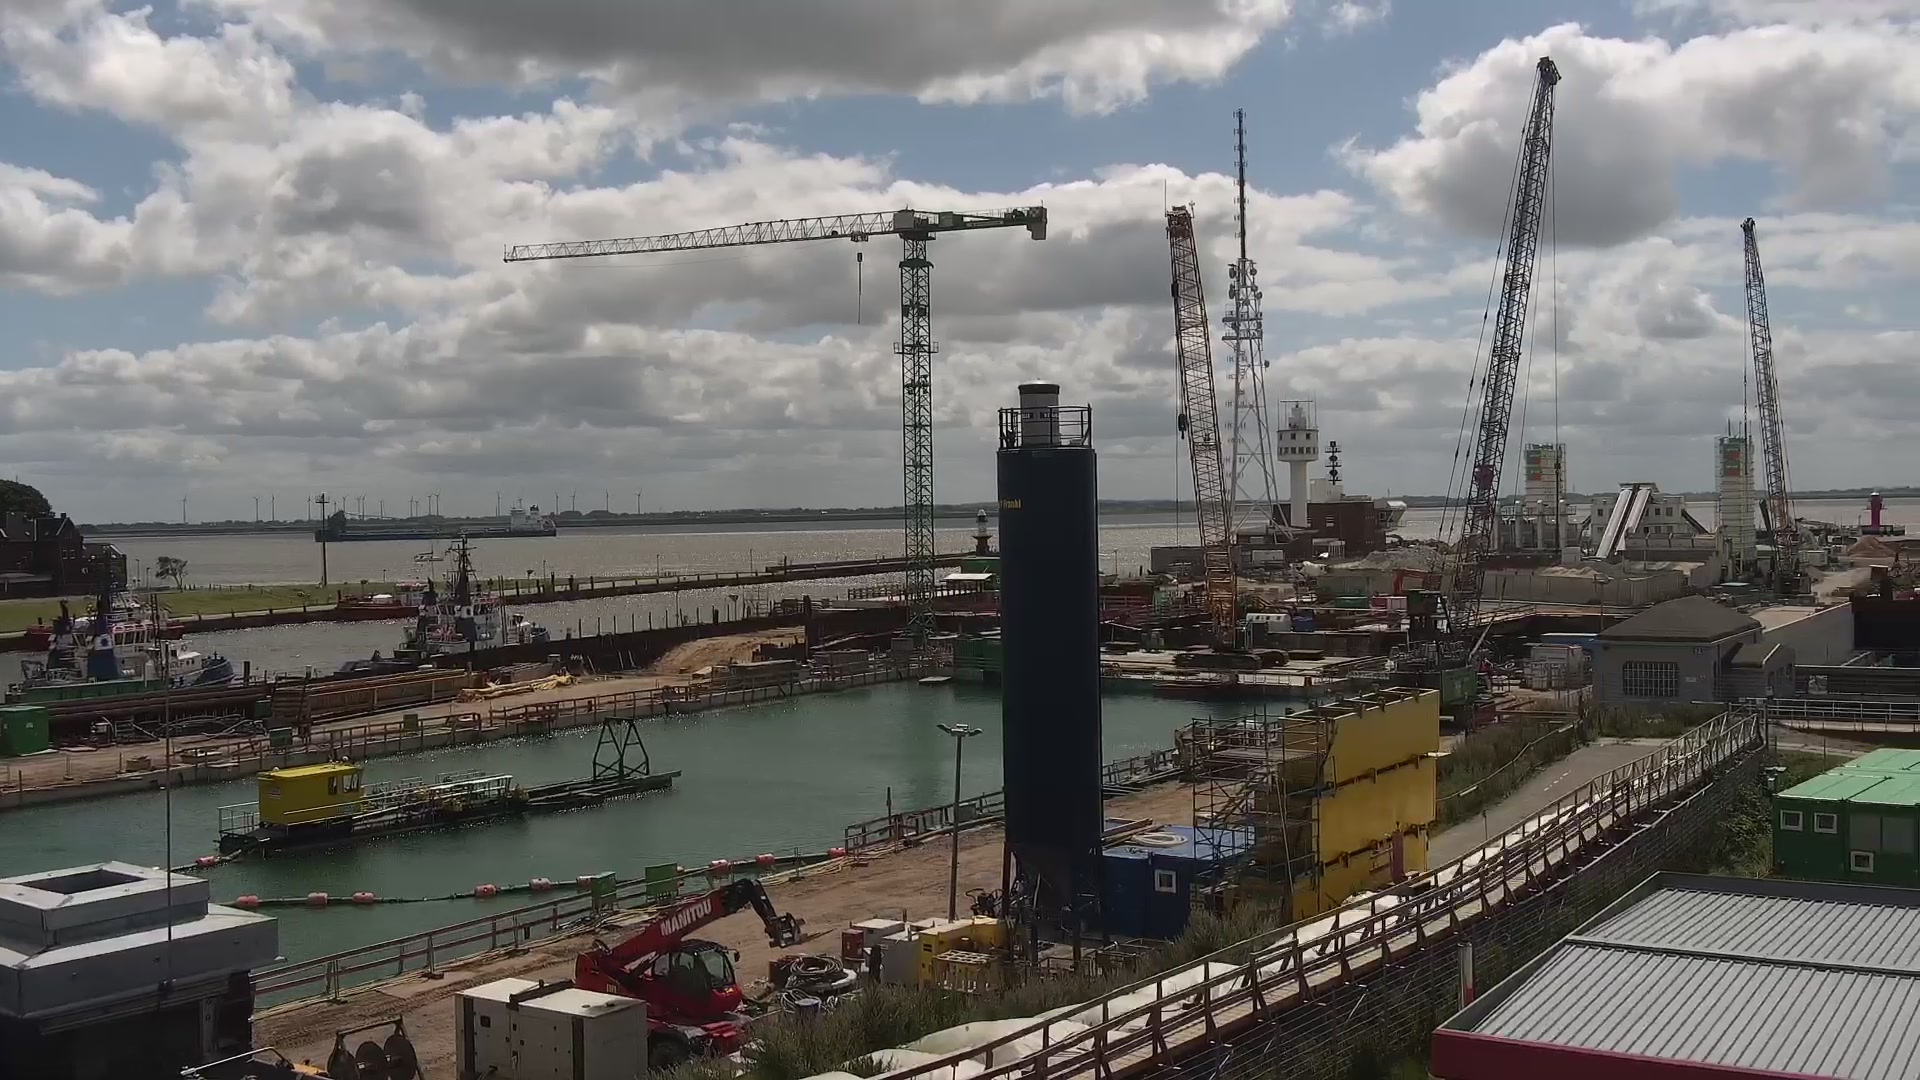land: (571, 874, 839, 1069)
sea: (338, 529, 549, 676), (3, 589, 233, 703), (22, 578, 185, 650), (315, 501, 556, 541), (334, 578, 431, 622)
